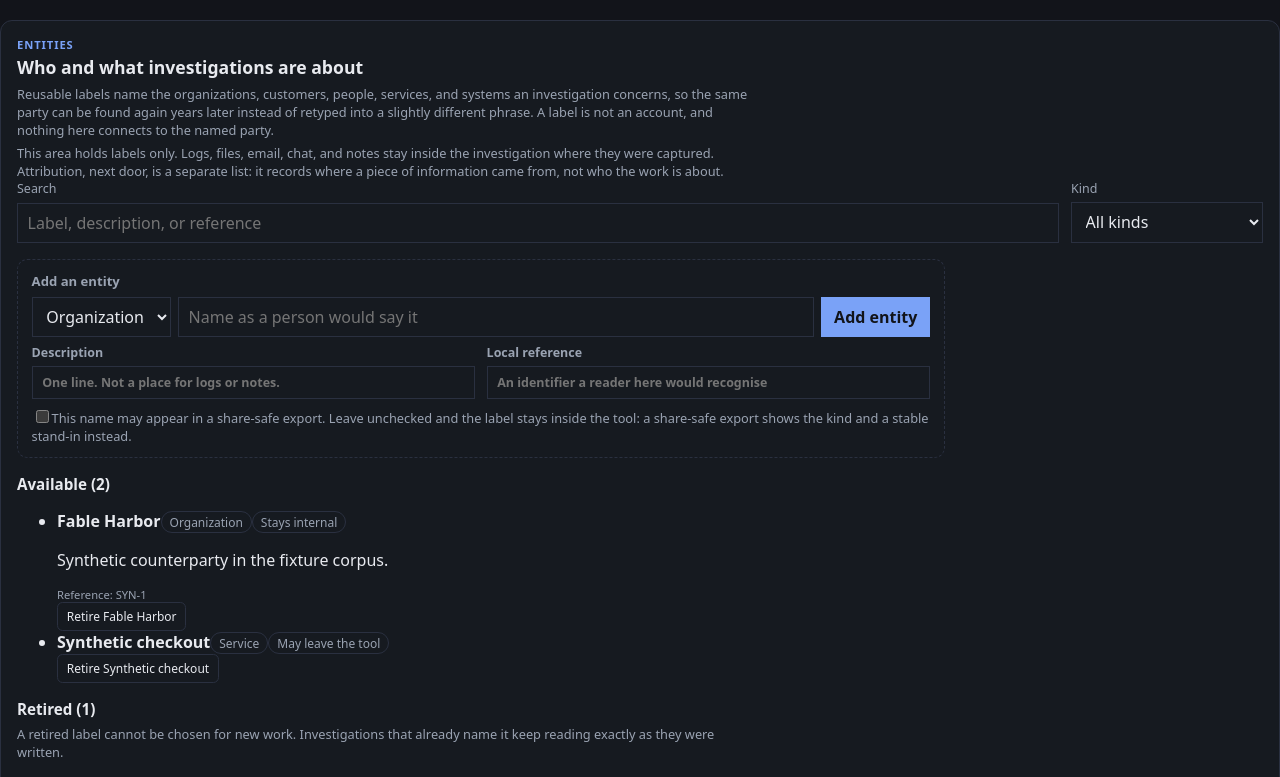
Test: the Entities area › points at the existing label instead of forking it
In the field named "Entity name": (496, 317) top-left (178, 297), bottom-right (814, 337), type "Fable Harbor"
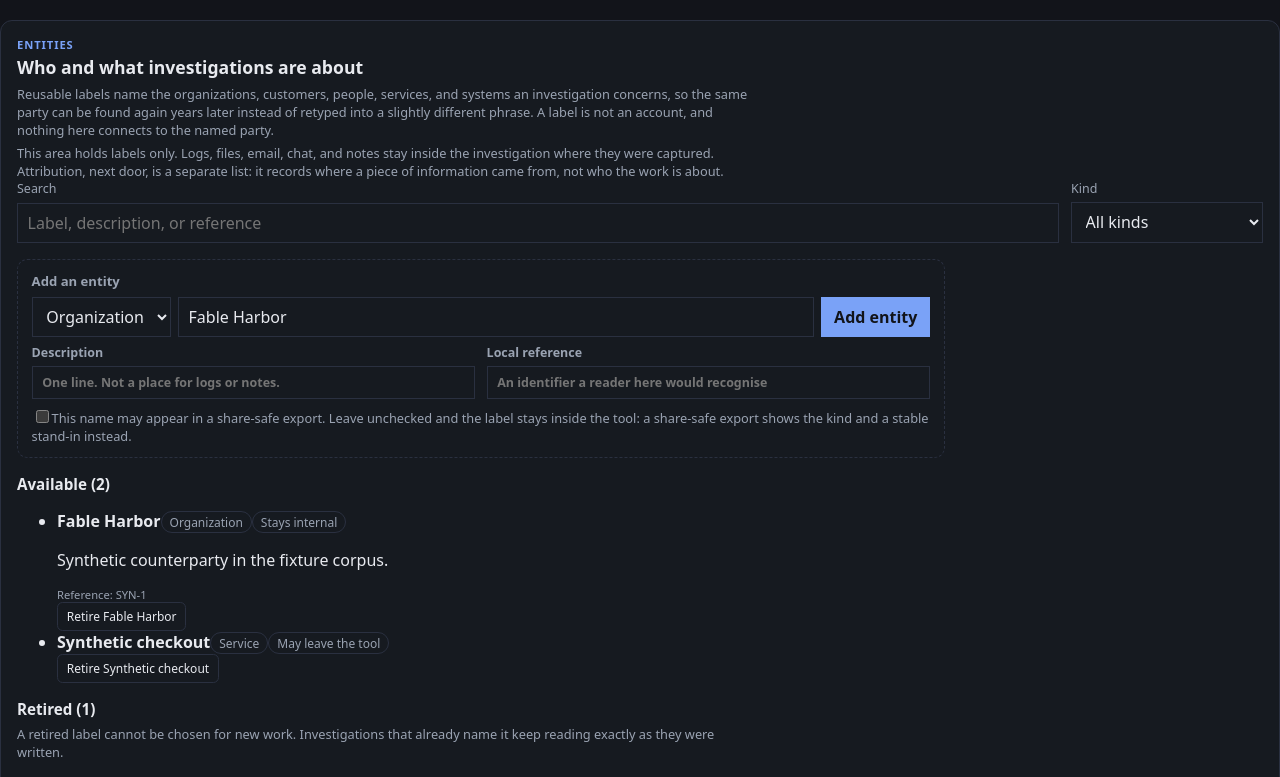
Submit the form "Add an entity", box top-left (17, 258), bottom-right (945, 458)
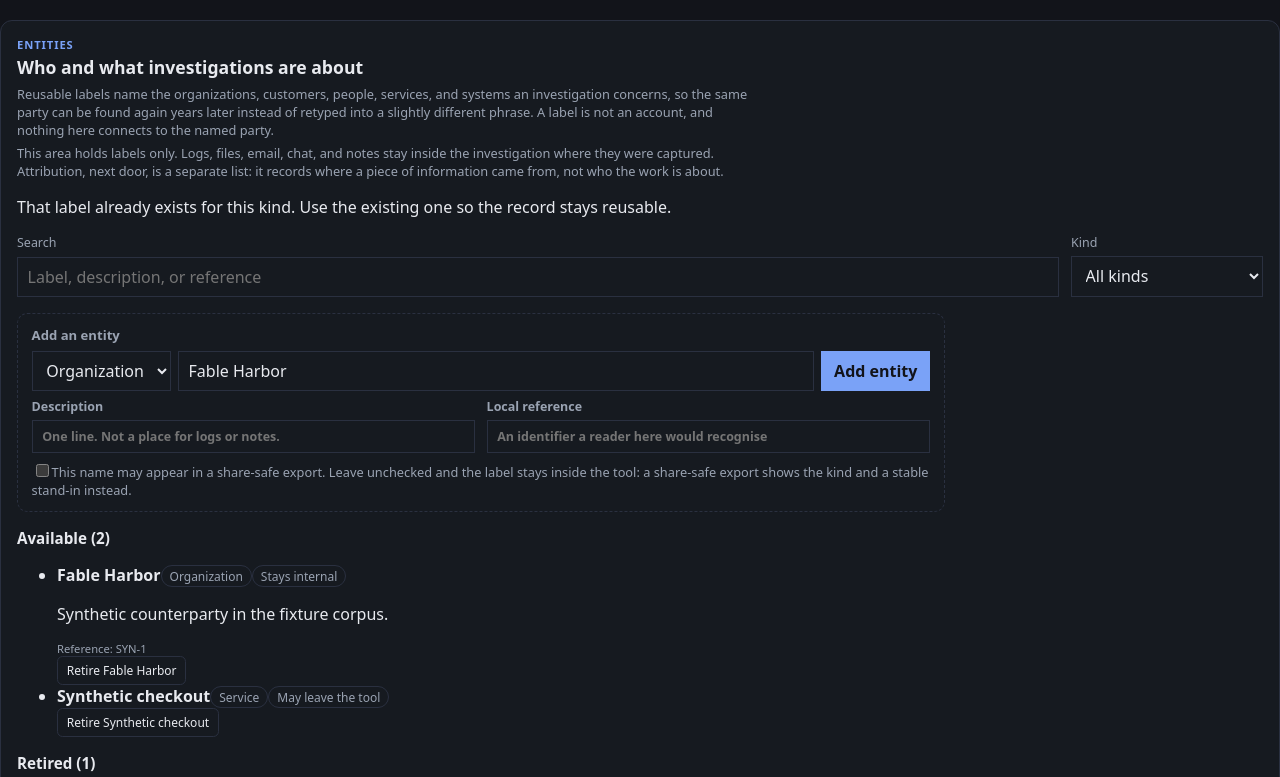
Expected: the text "Use the existing one so the record stays reusable" is shown, top-left (17, 196), bottom-right (671, 218)
